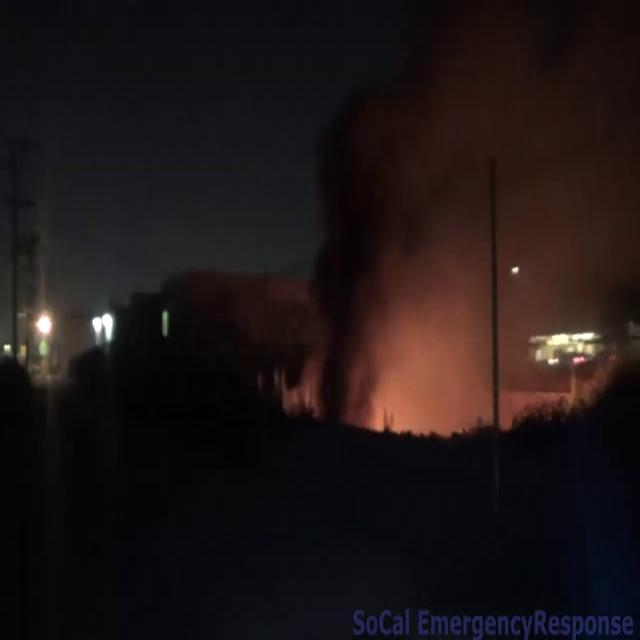Smoke: (300, 4, 638, 426)
